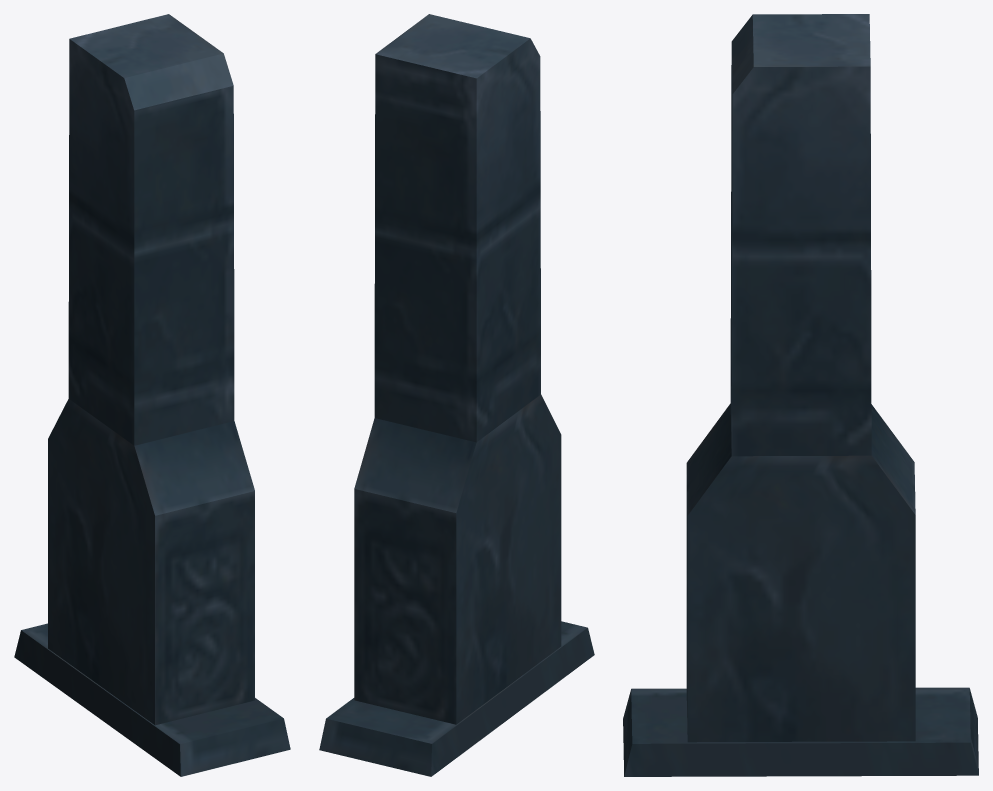
Rendered from yw_bingyuan_chuangzhu_001.FBX.
3 views of the same model, side by side, from view 1: azimuth 30°, elevation 25°; view 2: azimuth 150°, elevation 25°; view 3: azimuth 270°, elevation 25° (orthographic). The views are drawn at different scales.
Visible parts, largest first — view 1: yw_bingyuan_chuangzhu_001; view 2: yw_bingyuan_chuangzhu_001; view 3: yw_bingyuan_chuangzhu_001.
Part boxes in pixels (x1,y1,x2,y2): yw_bingyuan_chuangzhu_001: (14, 14, 290, 776); yw_bingyuan_chuangzhu_001: (319, 14, 594, 776); yw_bingyuan_chuangzhu_001: (623, 14, 978, 776).
Size of the model in its own units: 1.48 by 3.74 by 8.19.
